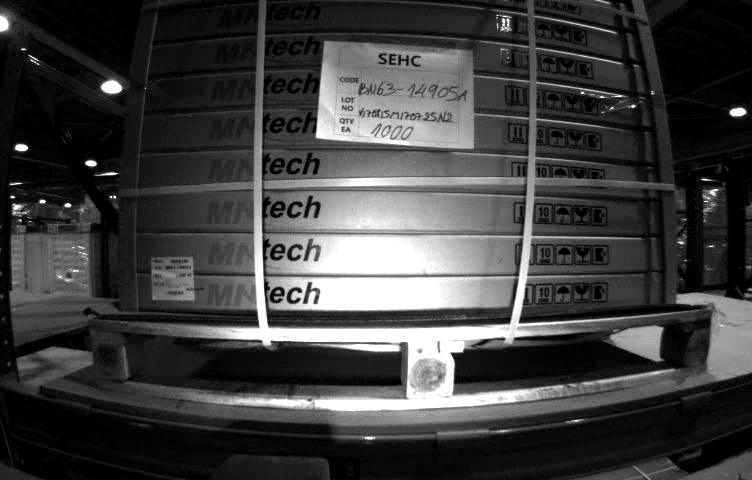True Barcode: (150, 256, 194, 301)
